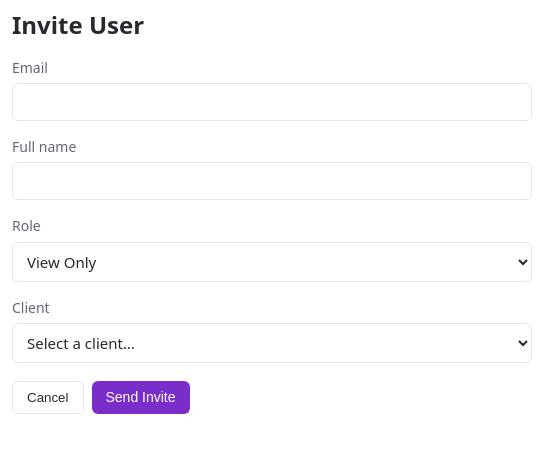
Test: UserInvitePage › requires a client for upload_notes
The width and height of the screenshot is (549, 458).
In the field labelled "Email": {"x": 272, "y": 102} left=12, top=83, right=532, bottom=121, type "x@test.dev"
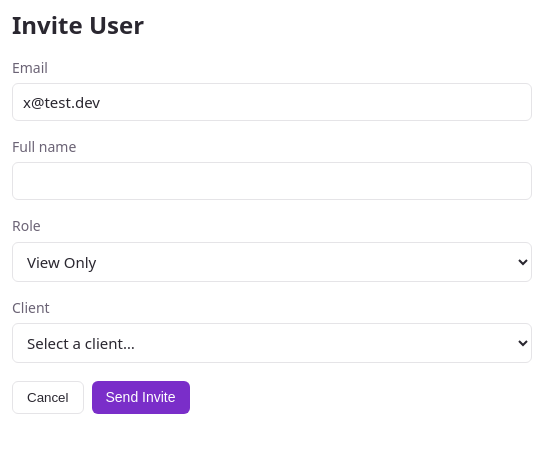
In the field labelled "Full name": {"x": 272, "y": 181} left=12, top=162, right=532, bottom=200, type "Someone"
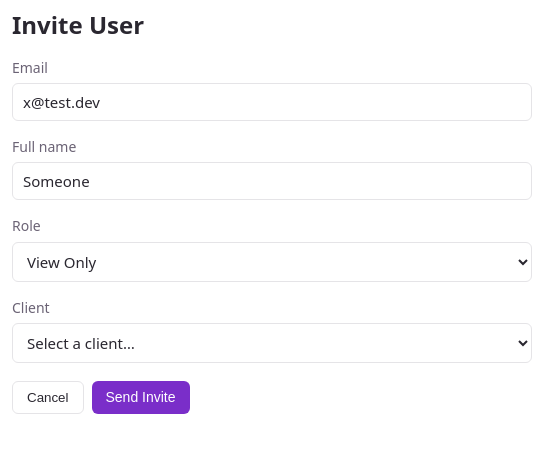
Select "Upload & Notes" in the dropdown labelled "Role": {"x": 272, "y": 262} left=12, top=242, right=532, bottom=282
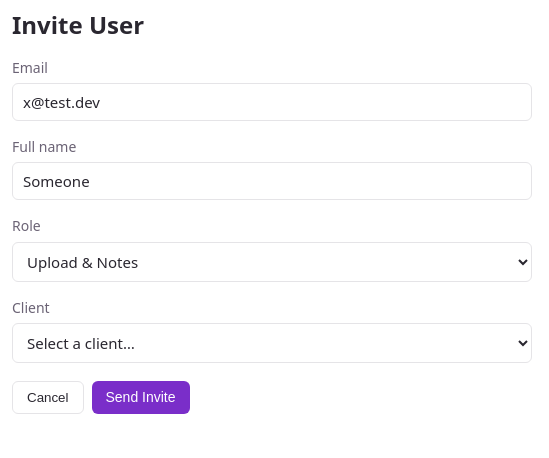
Click the button "Send Invite": {"x": 141, "y": 397} left=92, top=381, right=190, bottom=414
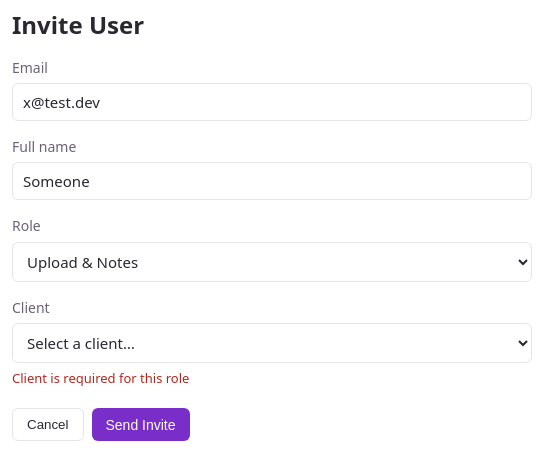
Check: the text "Client is required for this role" is shown, box left=12, top=369, right=189, bottom=387
